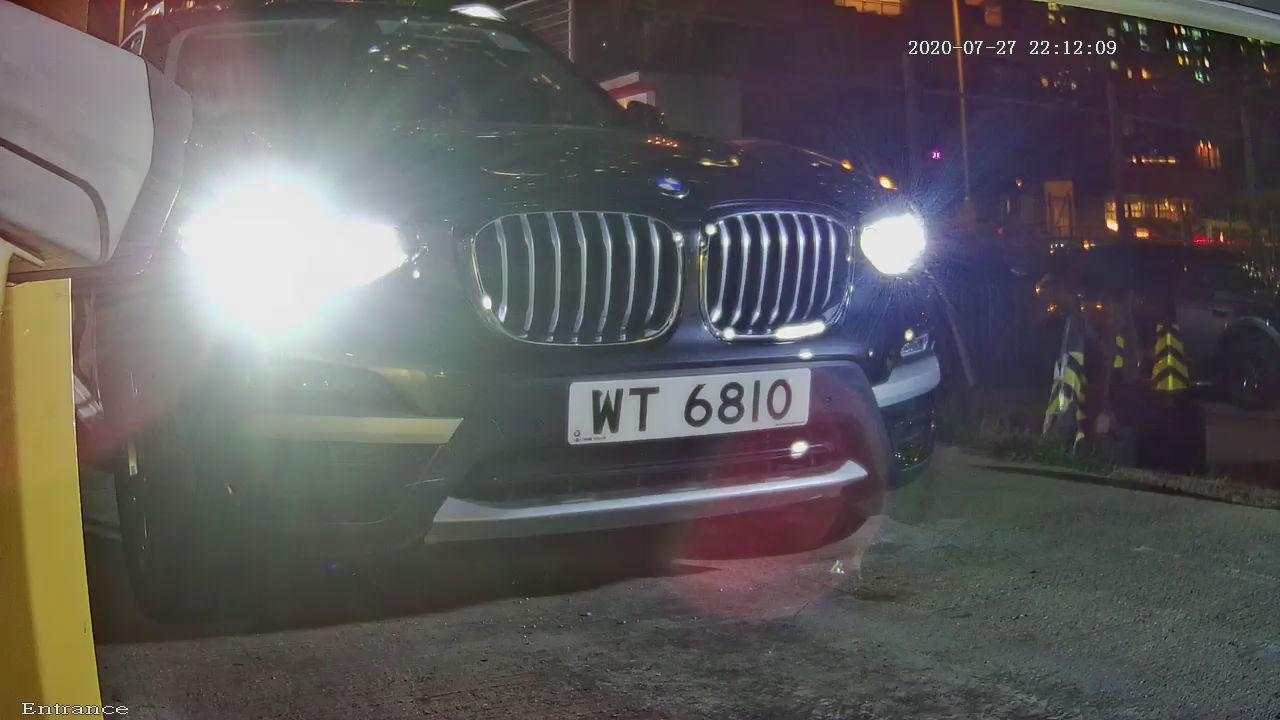privatecar: (75, 13, 1001, 621)
